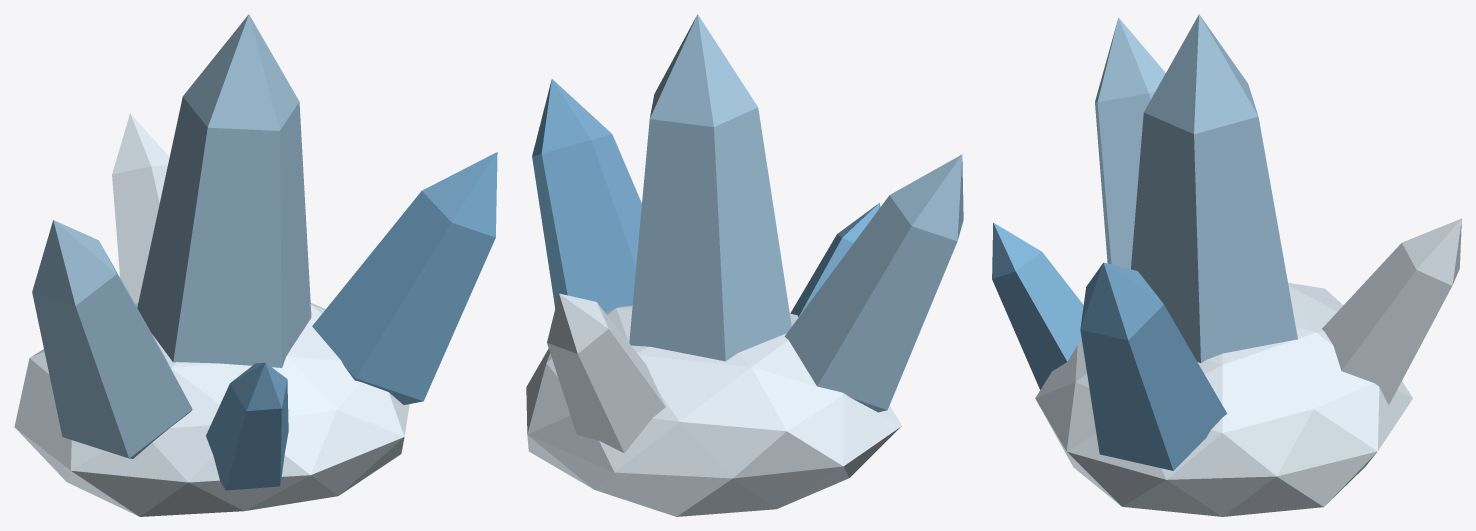
File: ice-crystal-cluster.glb
The picture shows the model from 3 angles, left to right: view 1: azimuth 30°, elevation 25°; view 2: azimuth 150°, elevation 25°; view 3: azimuth 270°, elevation 25°; orthographic projection. The views are drawn at different scales.
Parts seen in each view (by area): view 1: ice-ice-crystal-cluster; view 2: ice-ice-crystal-cluster; view 3: ice-ice-crystal-cluster.
Boxes of the visible parts, box(x1,y1,x2,y2) form: ice-ice-crystal-cluster: box(14, 14, 497, 516); ice-ice-crystal-cluster: box(526, 14, 963, 516); ice-ice-crystal-cluster: box(992, 14, 1461, 516).
Bounding box in the file's own units: 0.6629 × 0.6185 × 0.5977.
